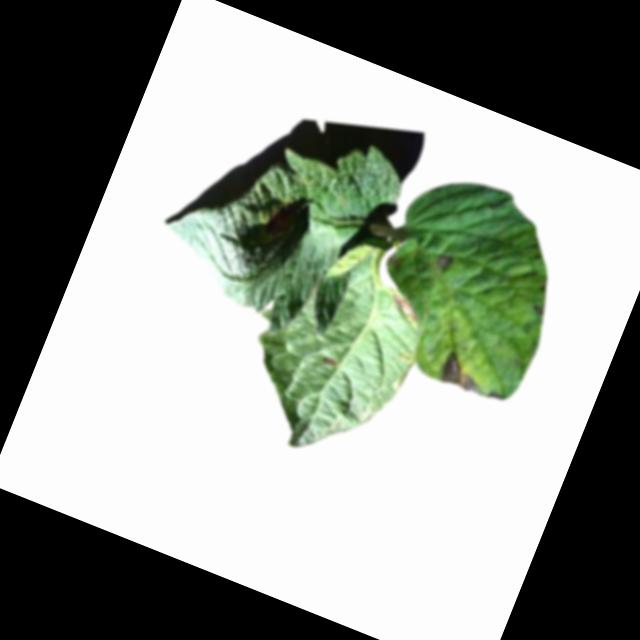Early_blight: (437, 348, 512, 406), (383, 291, 427, 329), (432, 251, 455, 276), (319, 353, 338, 370)
